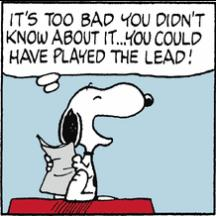snoopy: (44, 80, 154, 202)
